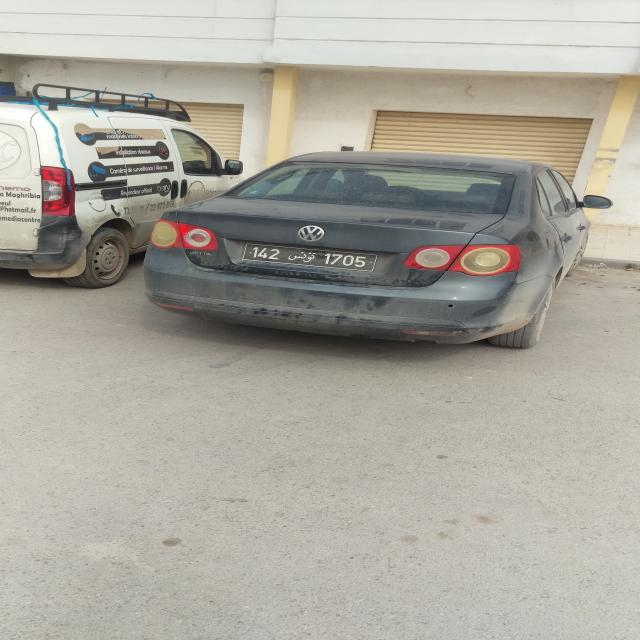LP: (238, 242, 382, 275)
